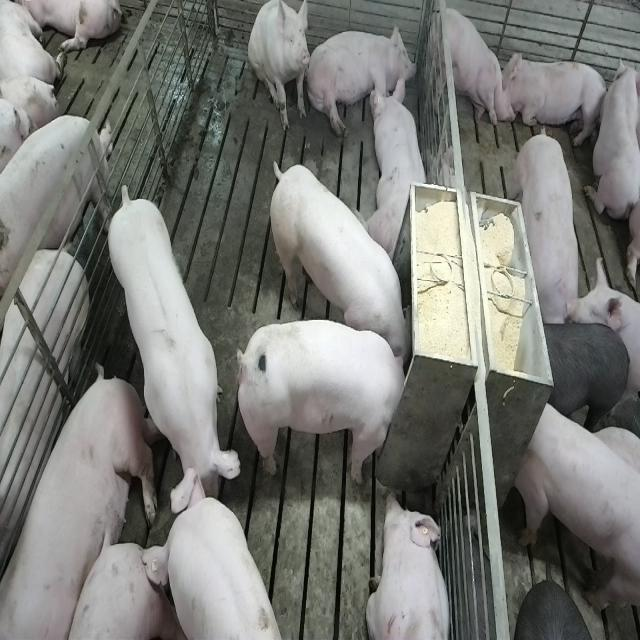Feeding: (264, 160, 412, 364), (232, 318, 408, 487)
Lateral_lying: (5, 367, 160, 640), (304, 21, 416, 137)
Sitting: (248, 2, 312, 134)
Standing: (108, 185, 242, 522), (0, 248, 89, 614), (515, 395, 638, 618), (0, 112, 111, 308), (138, 493, 286, 640), (512, 124, 584, 332), (433, 4, 514, 140), (542, 320, 632, 427)
Sternal_lying: (366, 489, 453, 640), (366, 74, 431, 259), (505, 48, 608, 145), (585, 53, 637, 224)
